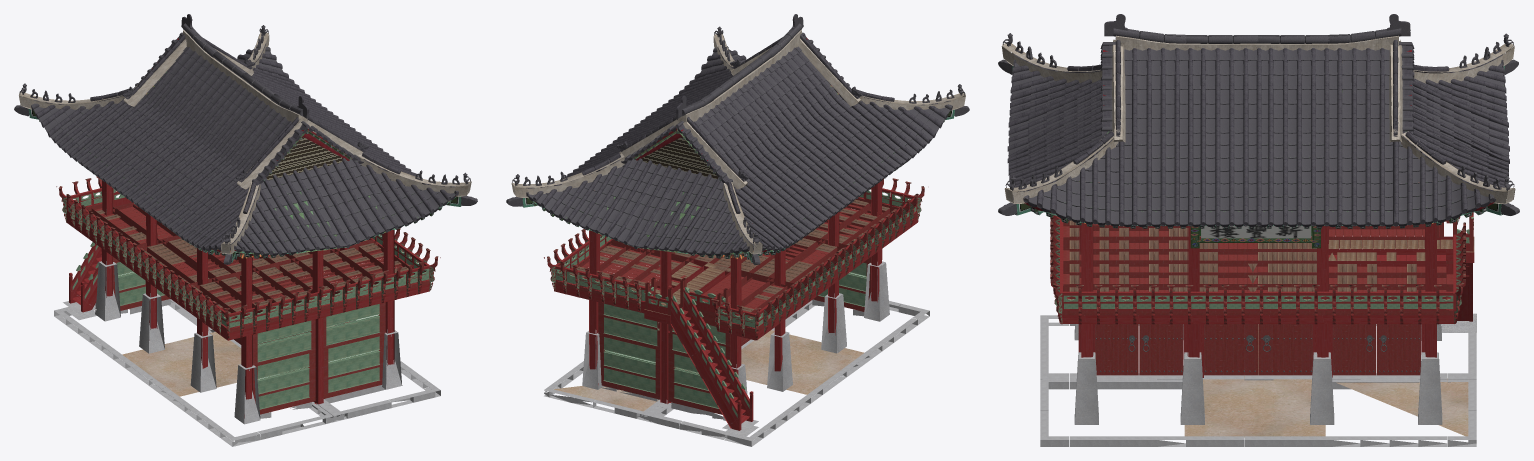
Rendered from sinpung.glb.
3 renders of one model, left to right at view 1: azimuth 30°, elevation 25°; view 2: azimuth 150°, elevation 25°; view 3: azimuth 270°, elevation 25°, orthographic. The views are drawn at different scales.
Visible parts, largest first — view 1: SM_Sinpungru, SM_Sinpungru_MI_R_Roof.020_0.002, SM_Sinpungru_MI_R_Roof.020_0.003, SM_Sinpungru_MI_R_Roof.020_0.001; view 2: SM_Sinpungru, SM_Sinpungru_MI_R_Roof.020_0.003, SM_Sinpungru_MI_R_Roof.020_0.002, SM_Sinpungru_MI_R_Roof.020_0.001; view 3: SM_Sinpungru, SM_Sinpungru_MI_R_Roof.020_0.001, SM_Sinpungru_MI_R_Roof.020_0.003, SM_Sinpungru_MI_R_Roof.020_0.002.
Part boxes in pixels (<box>): SM_Sinpungru: <box>19,14,471,446</box>; SM_Sinpungru_MI_R_Roof.020_0.002: <box>14,34,347,264</box>; SM_Sinpungru_MI_R_Roof.020_0.003: <box>72,25,394,248</box>; SM_Sinpungru_MI_R_Roof.020_0.001: <box>19,32,477,229</box>; SM_Sinpungru: <box>511,26,965,446</box>; SM_Sinpungru_MI_R_Roof.020_0.003: <box>506,32,827,252</box>; SM_Sinpungru_MI_R_Roof.020_0.002: <box>540,14,969,264</box>; SM_Sinpungru_MI_R_Roof.020_0.001: <box>567,45,830,256</box>; SM_Sinpungru: <box>1001,14,1515,446</box>; SM_Sinpungru_MI_R_Roof.020_0.001: <box>998,33,1513,227</box>; SM_Sinpungru_MI_R_Roof.020_0.003: <box>1007,35,1519,226</box>; SM_Sinpungru_MI_R_Roof.020_0.002: <box>998,14,1518,224</box>.
Size of the model in its own units: 13.51 by 15.34 by 19.65.
17 materials, 16 textured.
